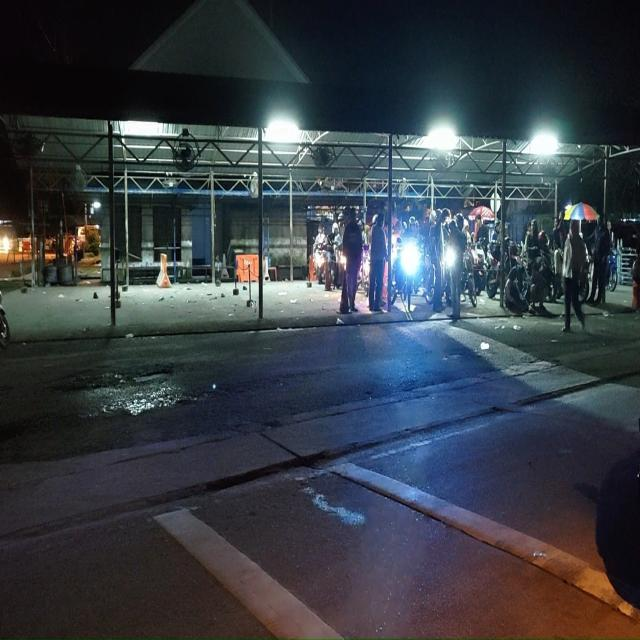Golongan II: (485, 237, 522, 299), (400, 242, 422, 310), (389, 238, 406, 305), (461, 249, 477, 307), (470, 243, 487, 294), (358, 244, 370, 296), (605, 250, 618, 292), (314, 249, 327, 284)
